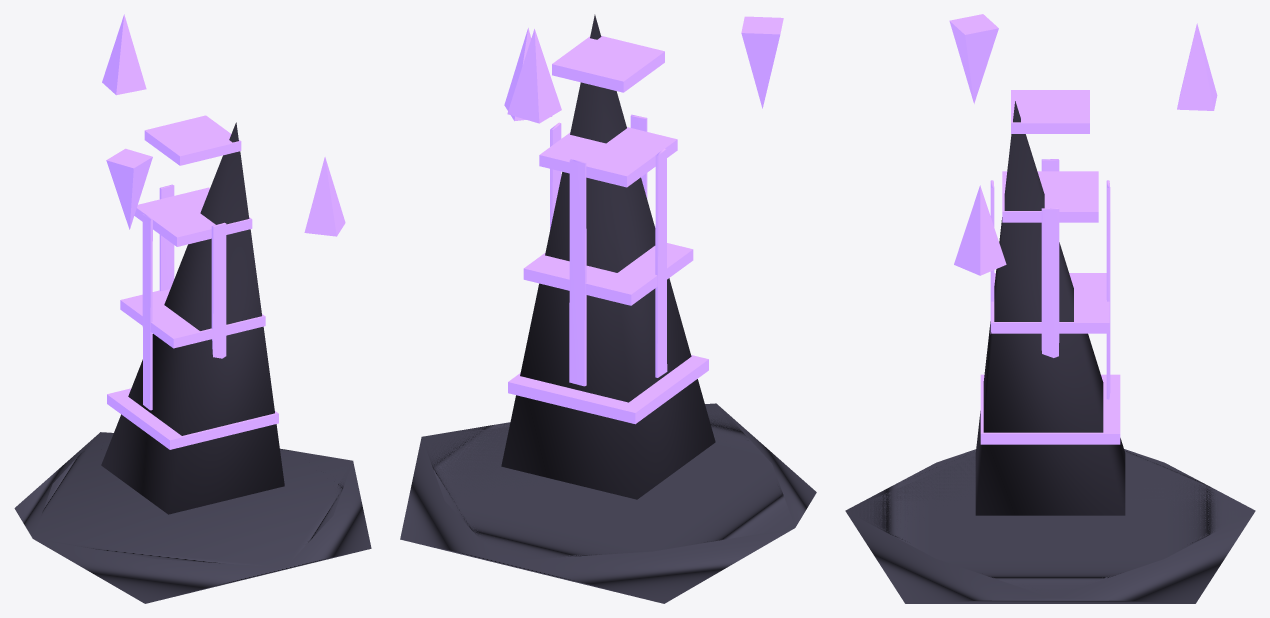
File: rift_obelisk_lod1.glb
3 views of the same model, side by side, from view 1: azimuth 30°, elevation 25°; view 2: azimuth 150°, elevation 25°; view 3: azimuth 270°, elevation 25° (orthographic). The views are drawn at different scales.
Parts seen in each view (by area): view 1: prop.rift_obelisk; view 2: prop.rift_obelisk; view 3: prop.rift_obelisk.
Part boxes in pixels (bbox=[...]): prop.rift_obelisk: bbox=[14, 14, 371, 603]; prop.rift_obelisk: bbox=[400, 14, 816, 603]; prop.rift_obelisk: bbox=[845, 14, 1255, 603].
Bounding box in the file's own units: 1.46 × 2.03 × 1.46.
